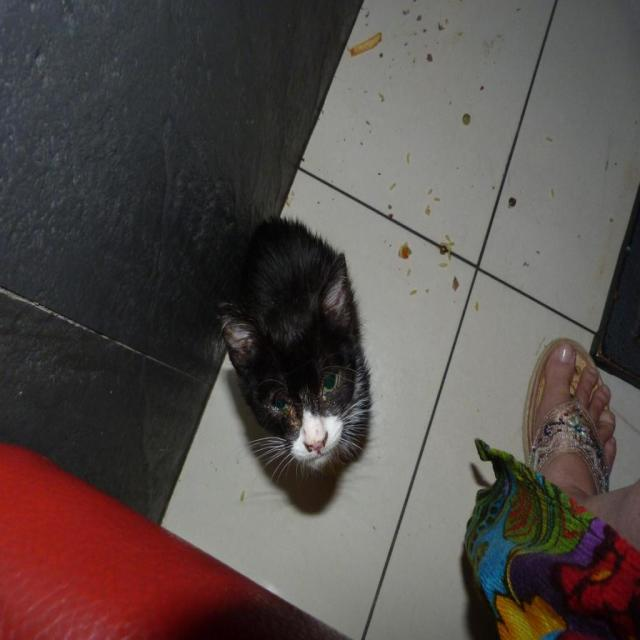Cat: (206, 204, 374, 493)
